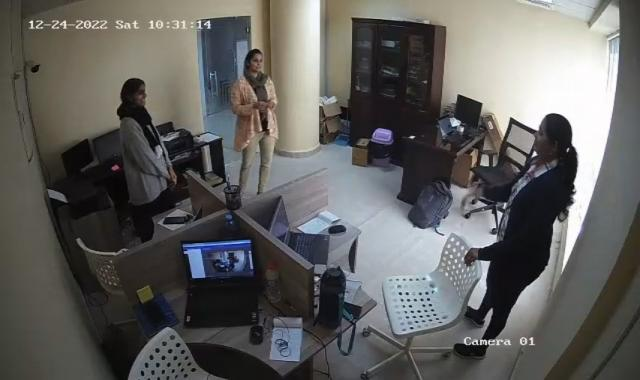no_hairnet: (532, 114, 576, 156), (120, 79, 148, 107), (244, 50, 265, 73)
